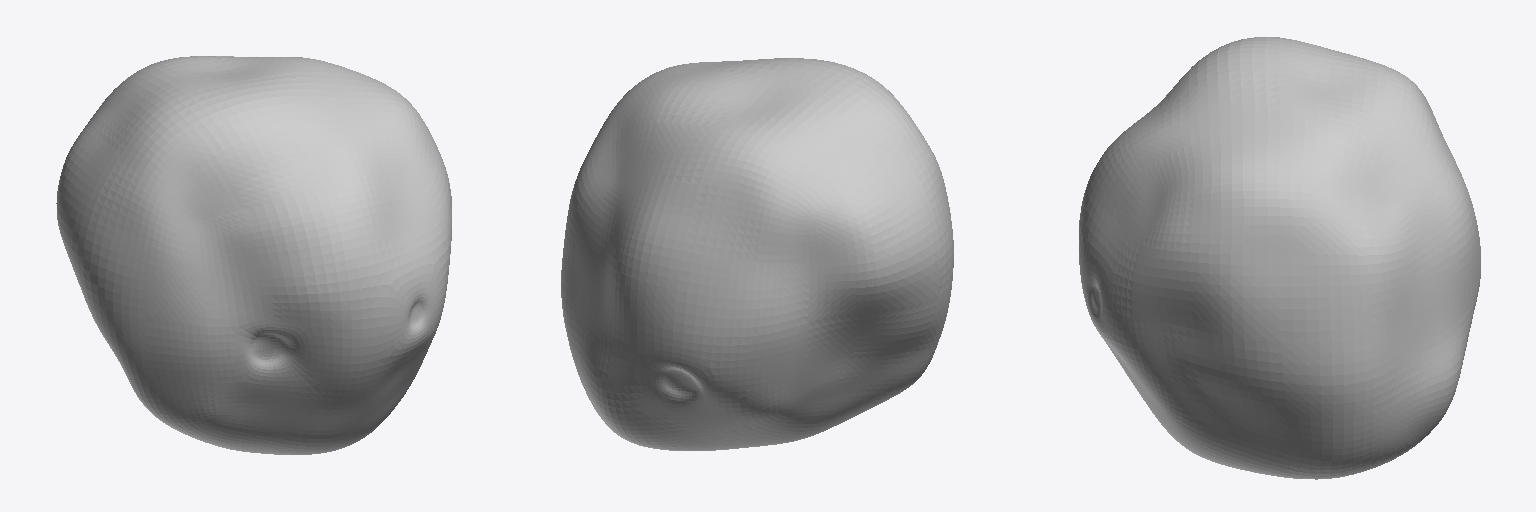
The model's file is asteroid.obj.
3 renders of one model, left to right at view 1: azimuth 30°, elevation 25°; view 2: azimuth 150°, elevation 25°; view 3: azimuth 270°, elevation 25°, orthographic.
Visible parts, largest first — view 1: 10464_Asteroid_v1; view 2: 10464_Asteroid_v1; view 3: 10464_Asteroid_v1.
Part boxes in pixels (x1,y1,x2,y2): 10464_Asteroid_v1: (56, 56, 451, 454); 10464_Asteroid_v1: (561, 58, 953, 450); 10464_Asteroid_v1: (1079, 37, 1480, 479).
Bounding box in the file's own units: 1365 × 1383 × 1377.